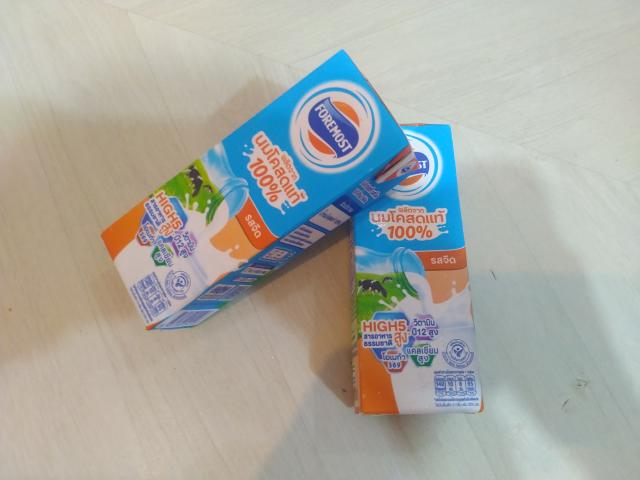drink_box: (80, 36, 439, 360), (337, 111, 503, 434)
